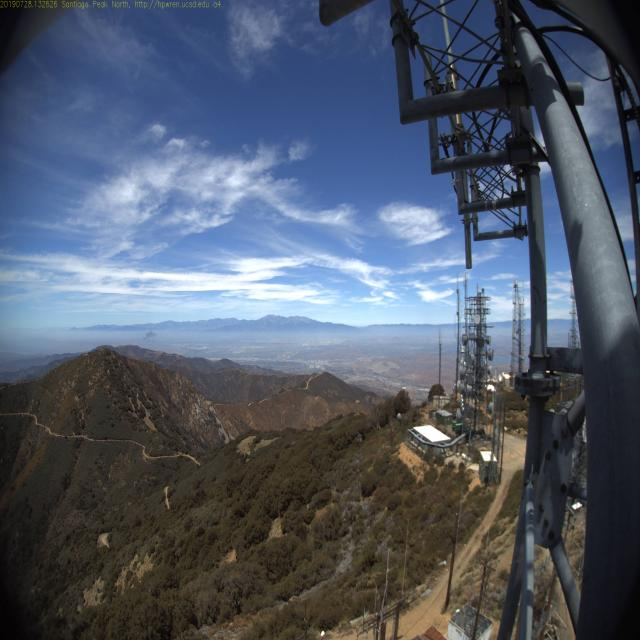smoke: (138, 328, 157, 347)
